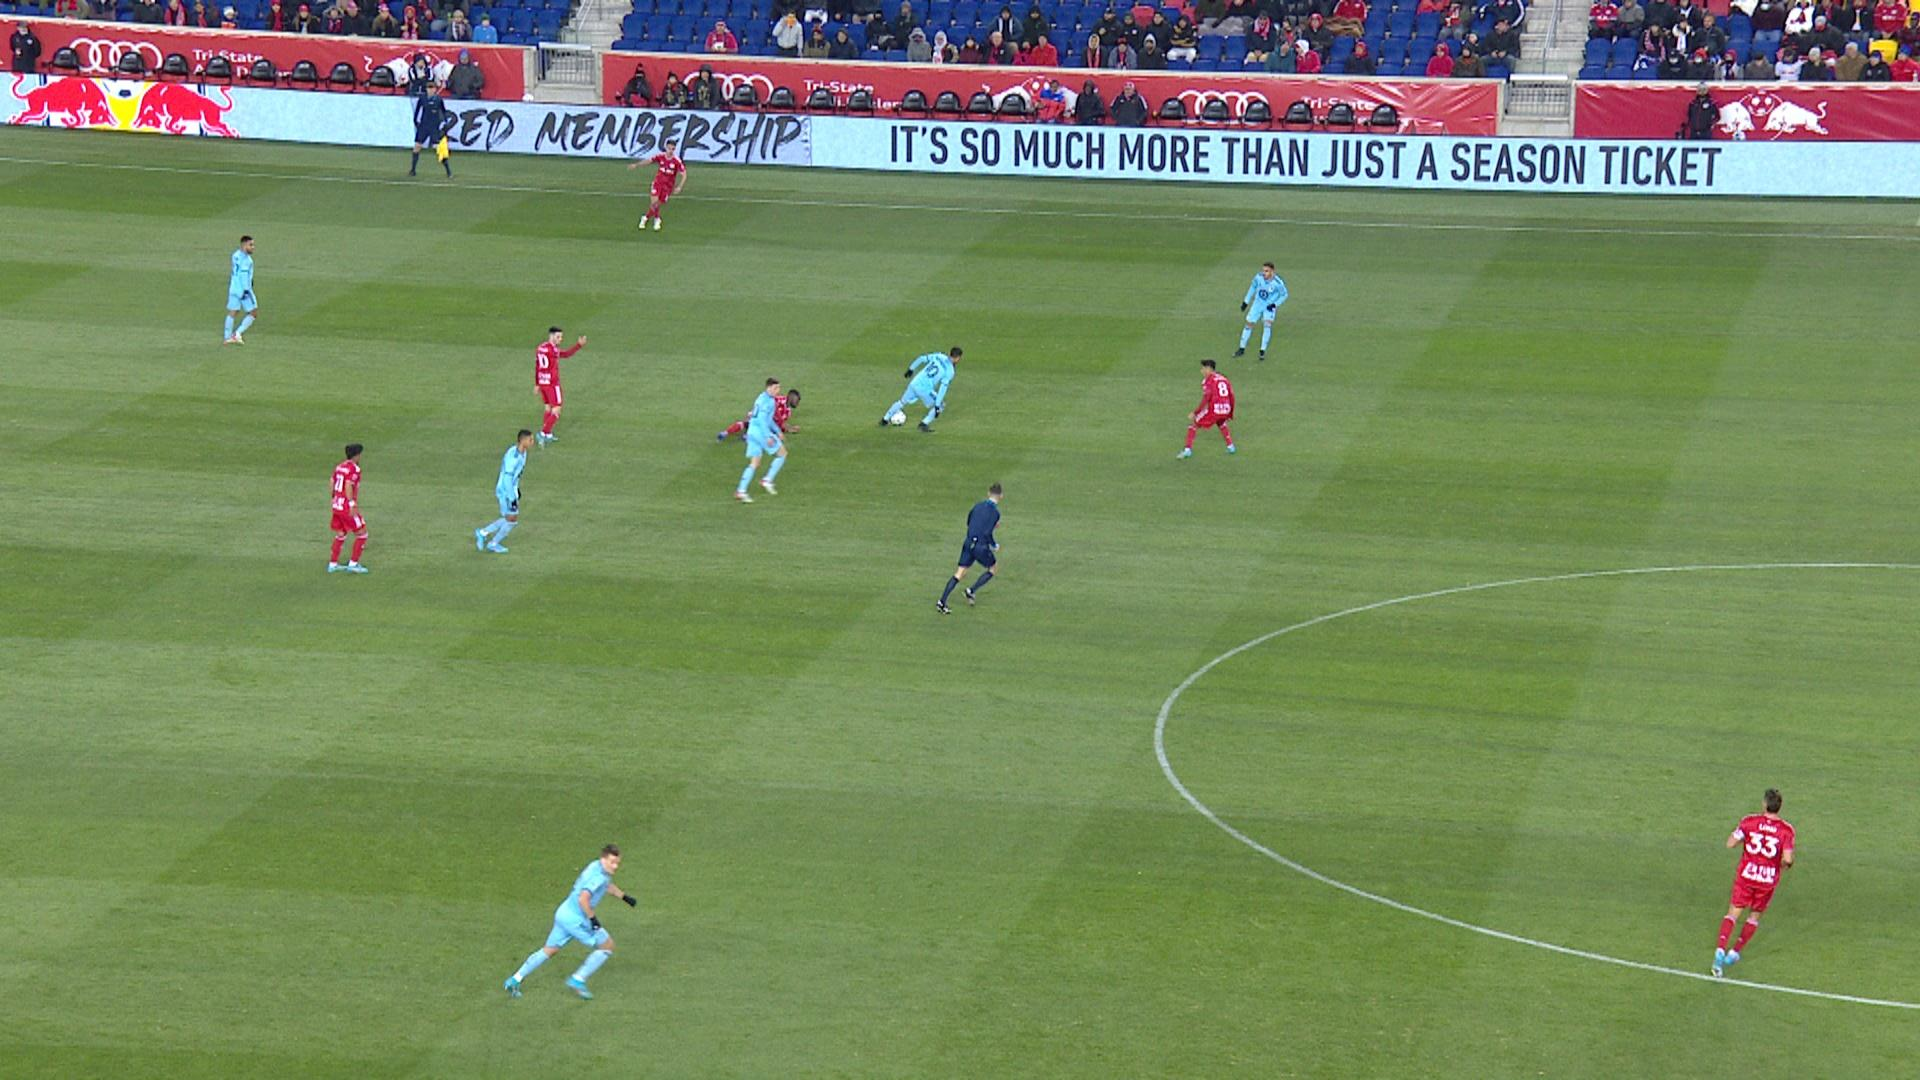football: (891, 410, 907, 427)
